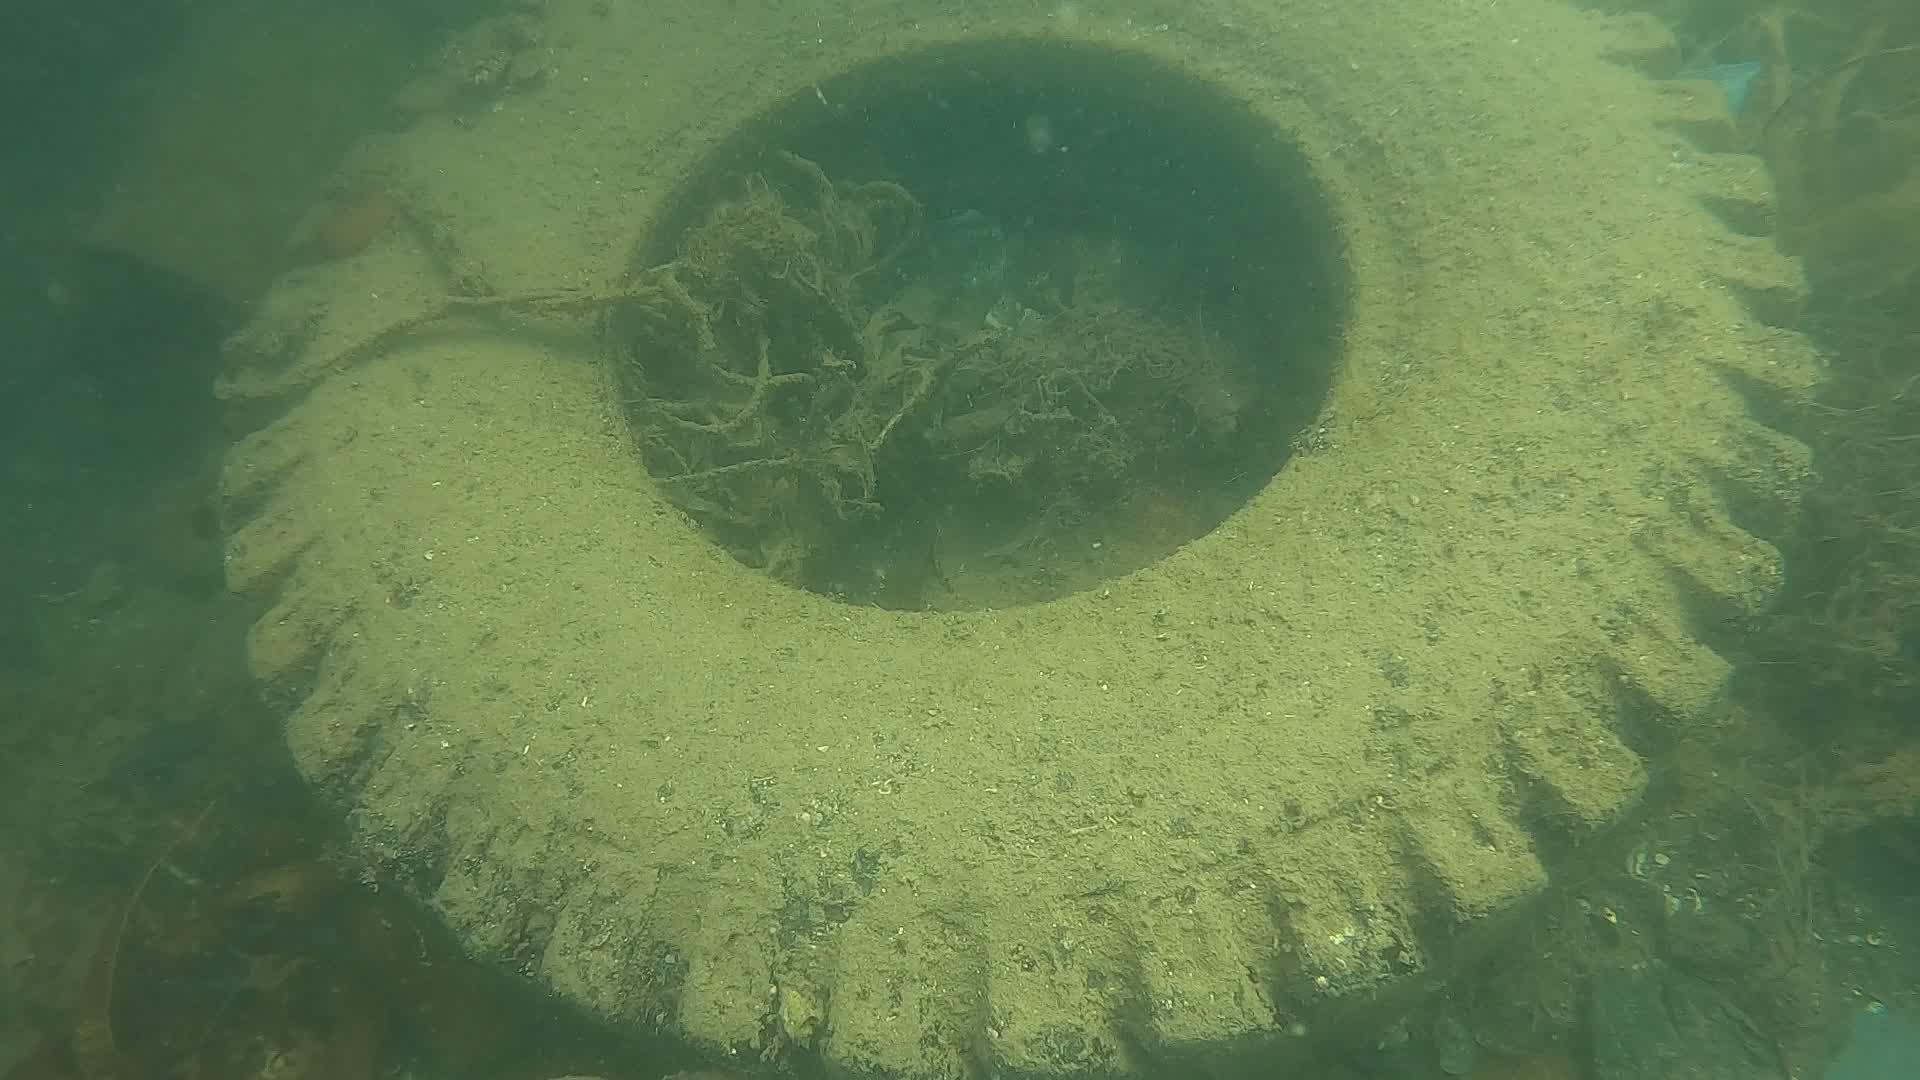tire: (211, 0, 1821, 1080)
